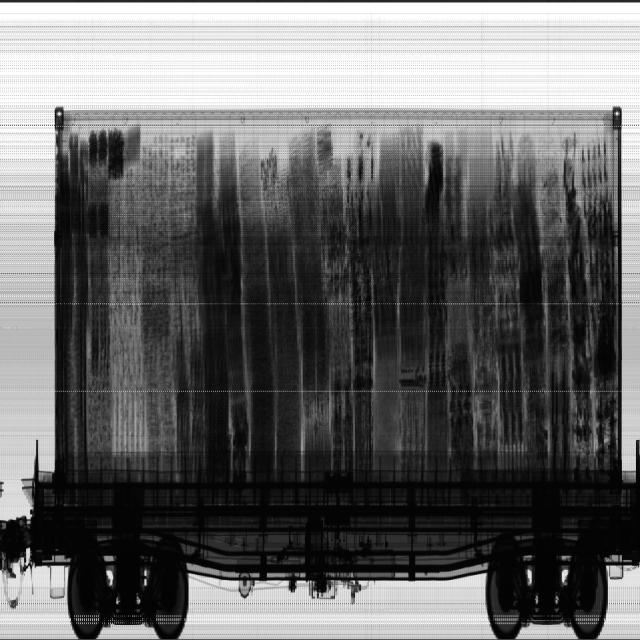spare parts: (559, 137, 618, 464)
